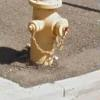Hydrant: (18, 2, 89, 77)
